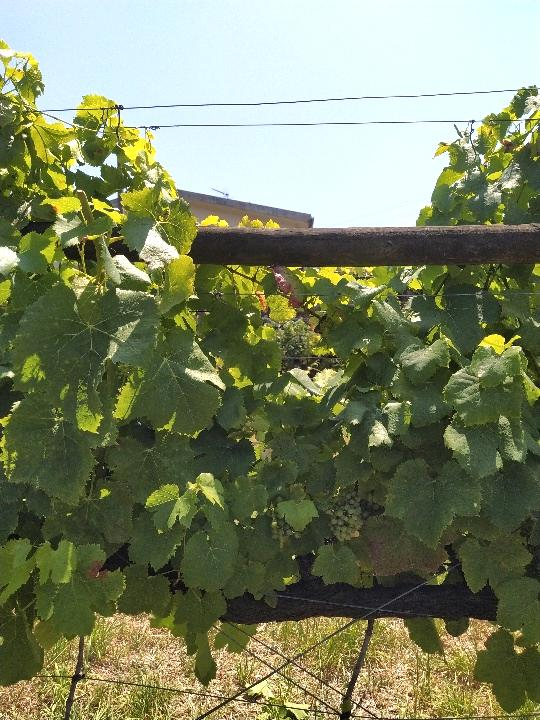grape: (321, 489, 366, 543)
